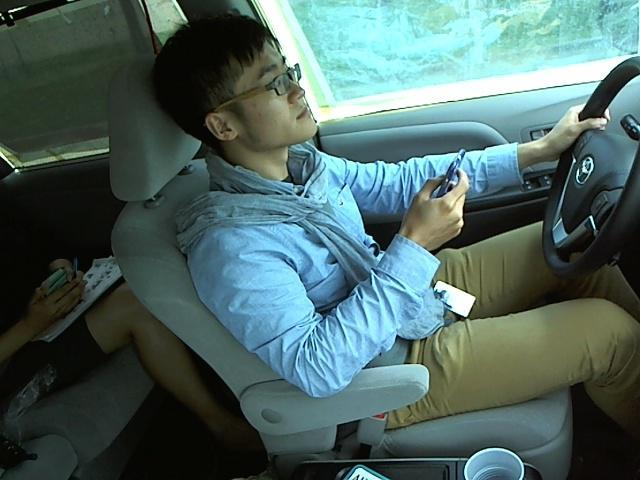PhoneUse: (424, 148, 478, 231)
